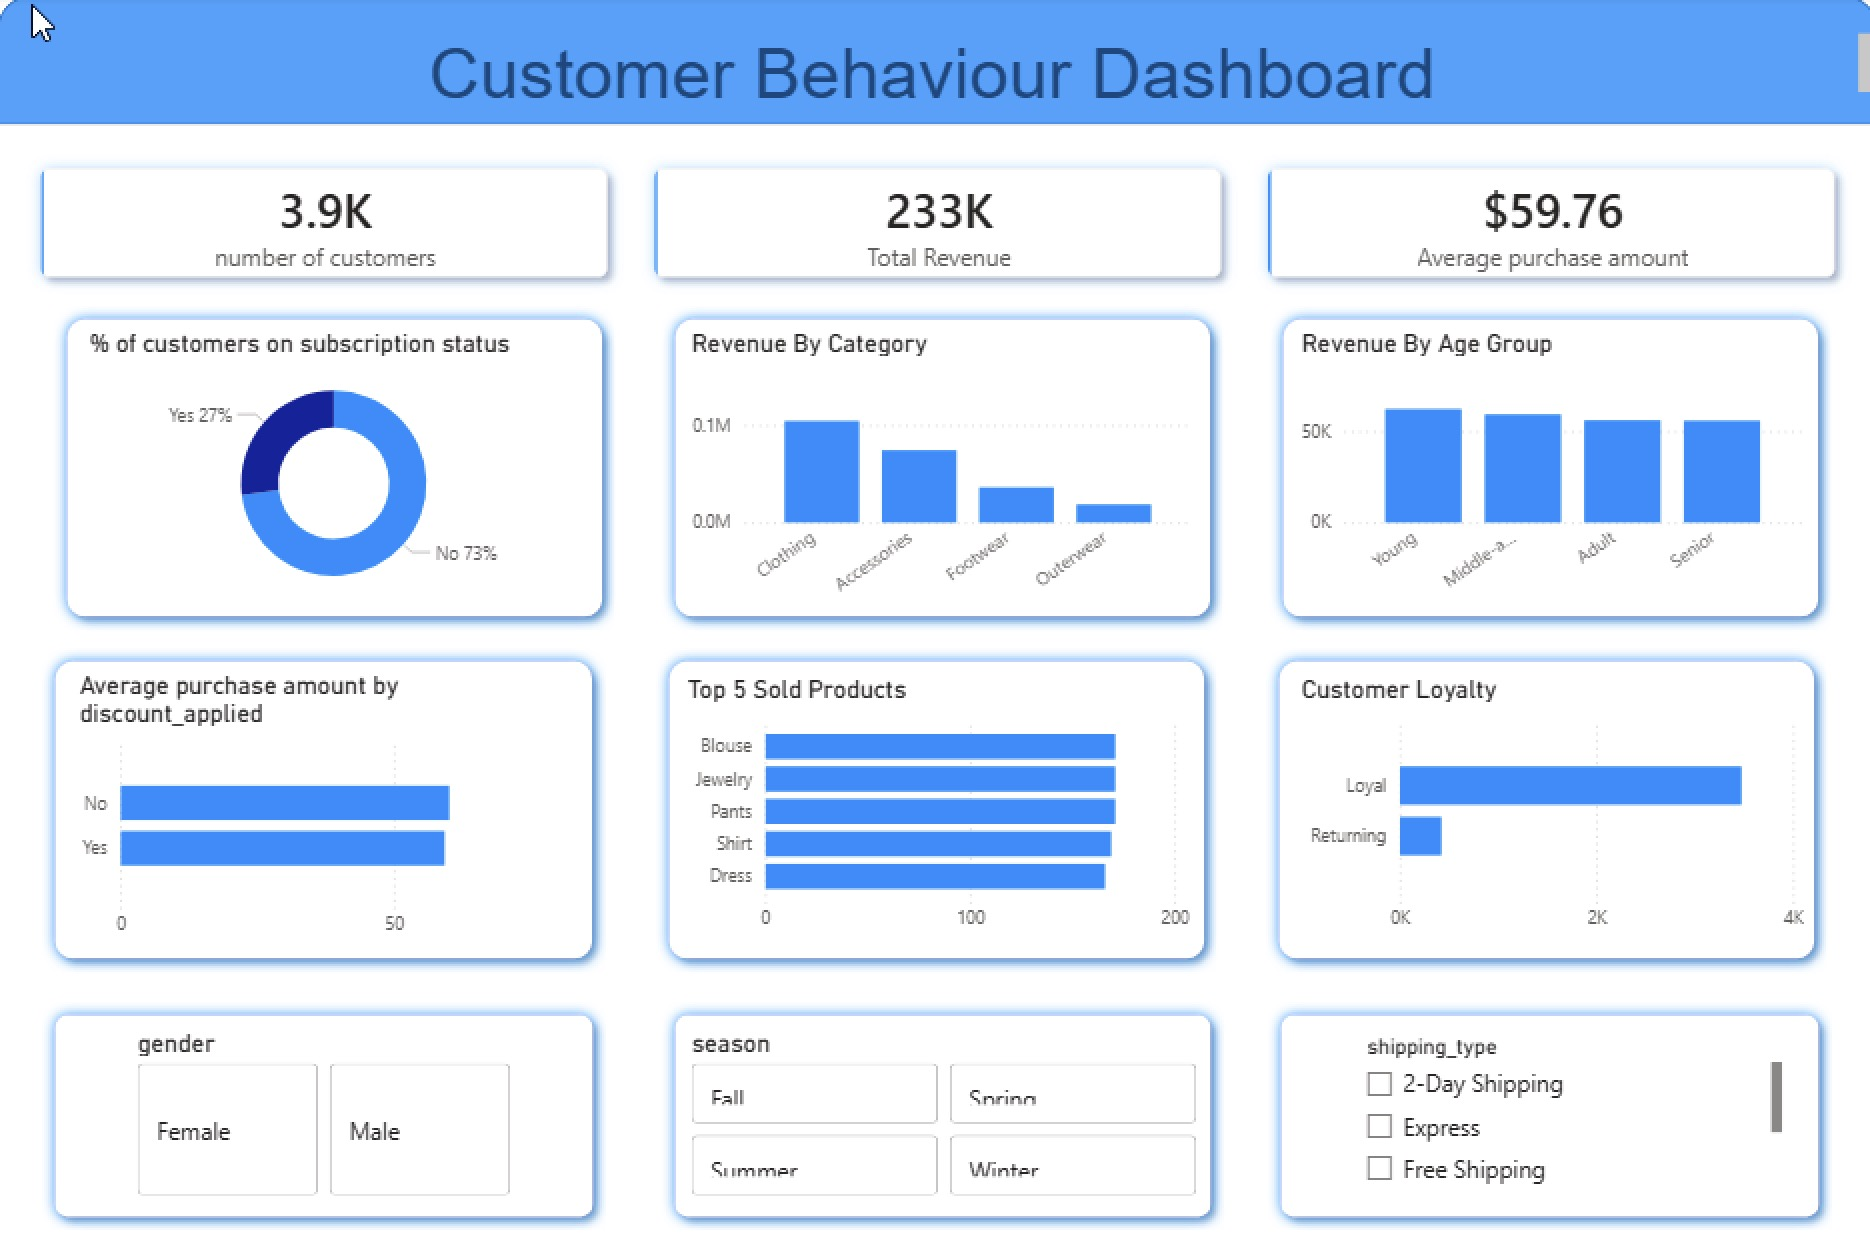

The page's visual inventory and layout, read from the dashboard file:
{"tool":"powerbi","page":{"name":"Page 1","canvas":[1280,850],"ordinal":0},"visuals":[{"type":"shape","box":[0,0,1280,88],"z":0},{"type":"textbox","box":[0,20.4,1280,57.4],"z":1000},{"type":"cardVisual","fields":{"Data":["customer_behavior_data.number of customers","customer_behavior_data.Total Revenue","customer_behavior_data.Average purchase amount"]},"box":[0,88,1280,132.6],"z":2000},{"type":"shape","box":[38.2,211.6,382.5,220.6],"z":3000},{"type":"donutChart","title":"% of customers on subscription status","fields":{"Category":["customer_behavior_data.subscription_status"],"Y":["CountNonNull(customer_behavior_data.customer_id)"]},"box":[57.4,225.7,342.9,192.5],"z":4000},{"type":"shape","box":[452.6,211.6,382.5,220.6],"z":5000},{"type":"shape","box":[866.9,211.6,382.5,220.6],"z":6000},{"type":"clusteredColumnChart","title":"Revenue By Category","fields":{"Y":["Sum(customer_behavior_data.purchase_amount)"],"Category":["customer_behavior_data.category"]},"box":[467.9,225.7,351.9,192.5],"z":7000},{"type":"clusteredColumnChart","title":"Revenue By Age Group","fields":{"Y":["Sum(customer_behavior_data.purchase_amount)"],"Category":["customer_behavior_data.age_group"]},"box":[882.2,225.7,351.9,192.5],"z":8000},{"type":"shape","box":[863.1,443.7,382.5,220.6],"z":9000},{"type":"barChart","title":"Customer Loyalty","fields":{"Category":["customer_behavior_data.customer segment"],"Y":["CountNonNull(customer_behavior_data.customer_id)"]},"box":[882.2,461.5,351.9,184.9],"z":10000},{"type":"shape","box":[448.8,443.7,382.5,220.6],"z":11000},{"type":"barChart","title":"Top 5 Sold Products","fields":{"Y":["customer_behavior_data.number of customers"],"Category":["customer_behavior_data.item_purchased"]},"box":[464.1,461.5,351.9,184.9],"z":12000},{"type":"shape","box":[30.6,443.7,383.7,220.6],"z":13000},{"type":"barChart","fields":{"Category":["customer_behavior_data.discount_applied"],"Y":["customer_behavior_data.Average purchase amount"]},"box":[51,459,342.9,191.2],"z":14000},{"type":"shape","box":[30,685.2,384.1,155.3],"z":14001},{"type":"advancedSlicerVisual","fields":{"Values":["customer_behavior_data.gender"]},"box":[89.9,702.9,264.3,119.9],"z":14002},{"type":"shape","box":[452.2,685.2,382.8,155.3],"z":14003},{"type":"shape","box":[865,685.2,384.1,155.3],"z":14004},{"type":"advancedSlicerVisual","fields":{"Values":["customer_behavior_data.season"]},"box":[467.2,702.9,354.2,119.9],"z":14005},{"type":"slicer","fields":{"Values":["customer_behavior_data.shipping_type"]},"box":[919.5,702.9,301,119.9],"z":14006}]}

Visuals, with their boxes in screenshot pixels (x1, y1, x2, y2), scaled from the page's 1280x850 canvas onto the 1870x1240 screenshot:
shape: {"x1": 0, "y1": 0, "x2": 1869, "y2": 128}
textbox: {"x1": 0, "y1": 30, "x2": 1869, "y2": 113}
cardVisual - customer_behavior_data.number of customers x customer_behavior_data.Total Revenue: {"x1": 0, "y1": 128, "x2": 1869, "y2": 322}
shape: {"x1": 56, "y1": 309, "x2": 615, "y2": 631}
"% of customers on subscription status" donutChart: {"x1": 84, "y1": 329, "x2": 585, "y2": 610}
shape: {"x1": 661, "y1": 309, "x2": 1220, "y2": 631}
shape: {"x1": 1266, "y1": 309, "x2": 1825, "y2": 631}
"Revenue By Category" clusteredColumnChart: {"x1": 684, "y1": 329, "x2": 1198, "y2": 610}
"Revenue By Age Group" clusteredColumnChart: {"x1": 1289, "y1": 329, "x2": 1803, "y2": 610}
shape: {"x1": 1261, "y1": 647, "x2": 1820, "y2": 969}
"Customer Loyalty" barChart: {"x1": 1289, "y1": 673, "x2": 1803, "y2": 943}
shape: {"x1": 656, "y1": 647, "x2": 1214, "y2": 969}
"Top 5 Sold Products" barChart: {"x1": 678, "y1": 673, "x2": 1192, "y2": 943}
shape: {"x1": 45, "y1": 647, "x2": 605, "y2": 969}
barChart - customer_behavior_data.discount_applied x customer_behavior_data.Average purchase amount: {"x1": 75, "y1": 670, "x2": 575, "y2": 949}
shape: {"x1": 44, "y1": 1000, "x2": 605, "y2": 1226}
advancedSlicerVisual - customer_behavior_data.gender: {"x1": 131, "y1": 1025, "x2": 517, "y2": 1200}
shape: {"x1": 661, "y1": 1000, "x2": 1220, "y2": 1226}
shape: {"x1": 1264, "y1": 1000, "x2": 1825, "y2": 1226}
advancedSlicerVisual - customer_behavior_data.season: {"x1": 683, "y1": 1025, "x2": 1200, "y2": 1200}
slicer - customer_behavior_data.shipping_type: {"x1": 1343, "y1": 1025, "x2": 1783, "y2": 1200}
